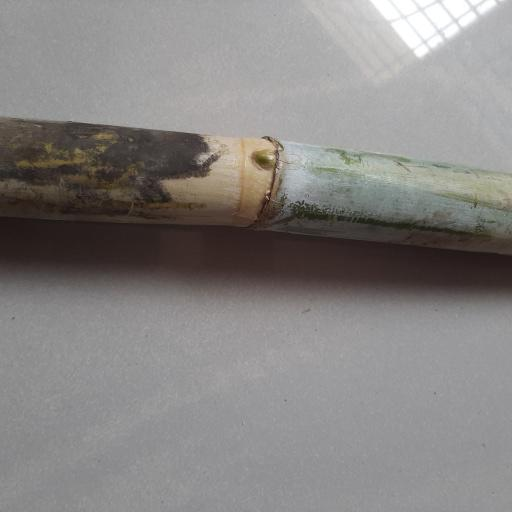Bud: (252, 146, 280, 169)
